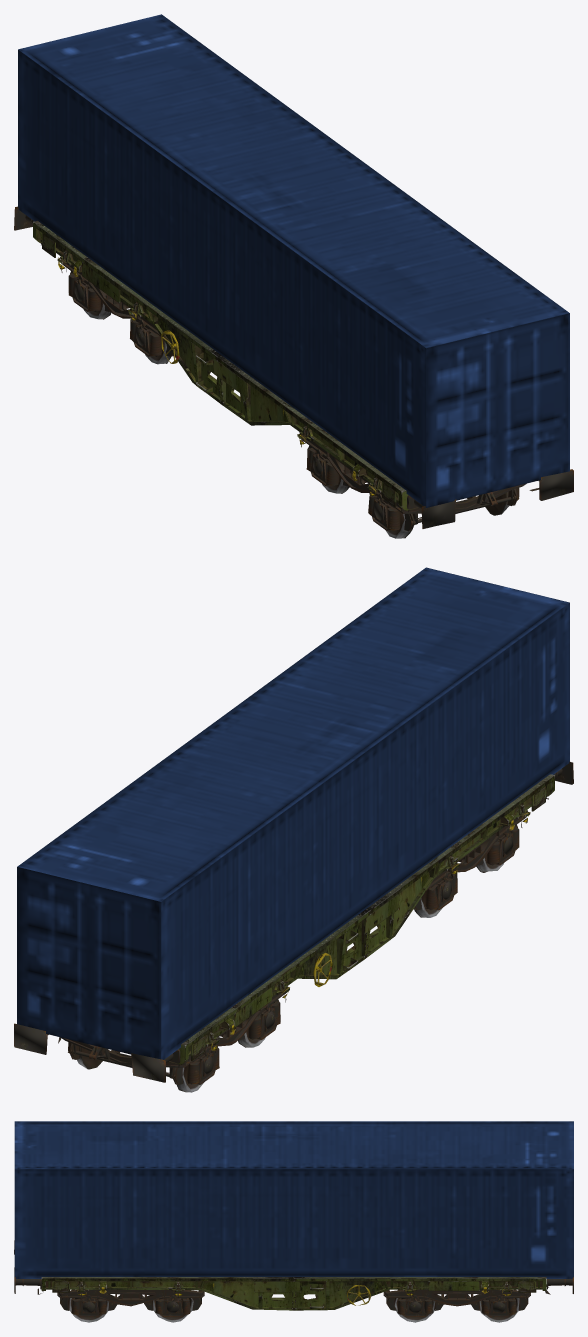
The model's file is wagonFlat40.glb.
The picture shows the model from 3 angles, top to bottom: view 1: azimuth 30°, elevation 25°; view 2: azimuth 150°, elevation 25°; view 3: azimuth 270°, elevation 25°; orthographic projection. The views are drawn at different scales.
Parts seen in each view (by area): view 1: container-blue, WagonLow; view 2: container-blue, WagonLow; view 3: container-blue, WagonLow.
Part boxes in pixels (x1,y1,x2,y2): container-blue: (18,14,569,507); WagonLow: (14,206,573,538); container-blue: (17,567,569,1059); WagonLow: (14,761,573,1092); container-blue: (14,1121,573,1278); WagonLow: (14,1240,573,1322).
Size of the model in its own units: 2.7 by 3.8 by 12.02.
2 materials, 2 textured.
